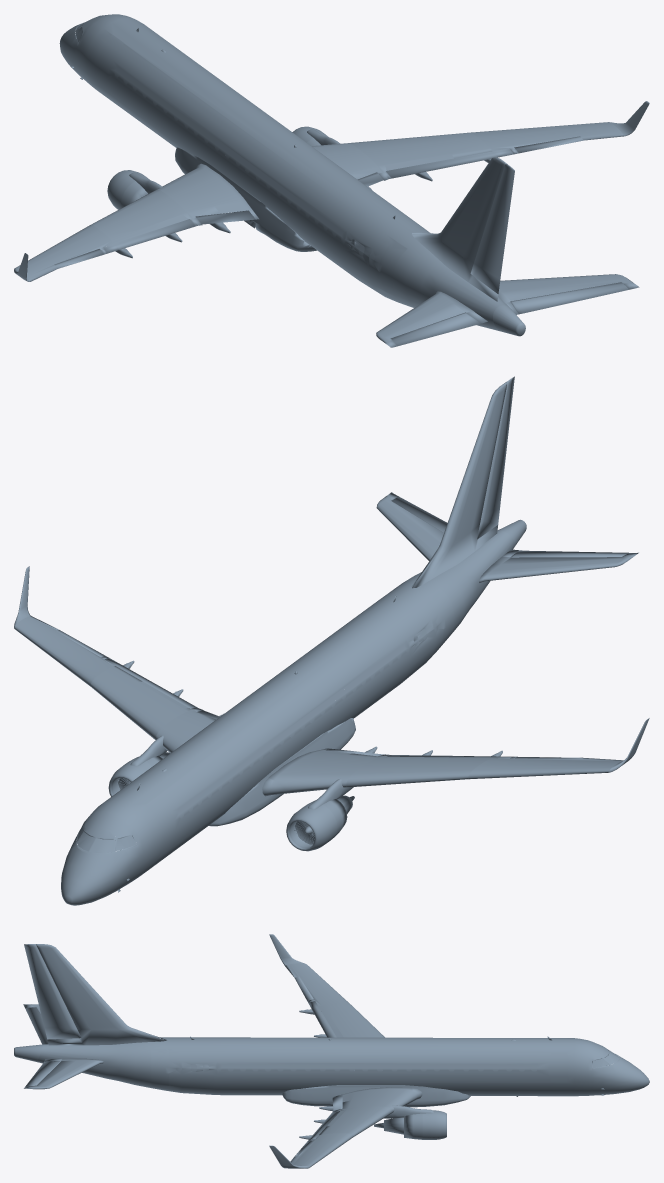
3 views of the same model, one above another, from view 1: azimuth 30°, elevation 25°; view 2: azimuth 150°, elevation 25°; view 3: azimuth 270°, elevation 25° (orthographic). The views are drawn at different scales.
Size of the model in its own units: 28.2 by 10.22 by 35.83.
